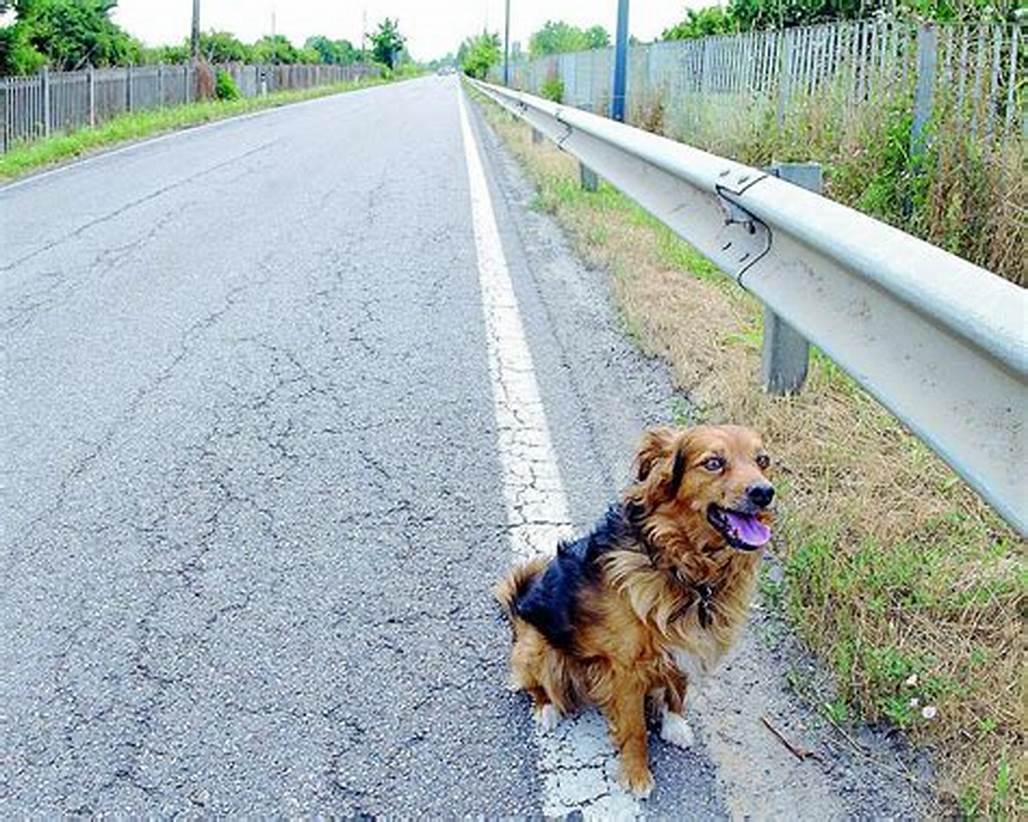kopek: (447, 410, 807, 801)
